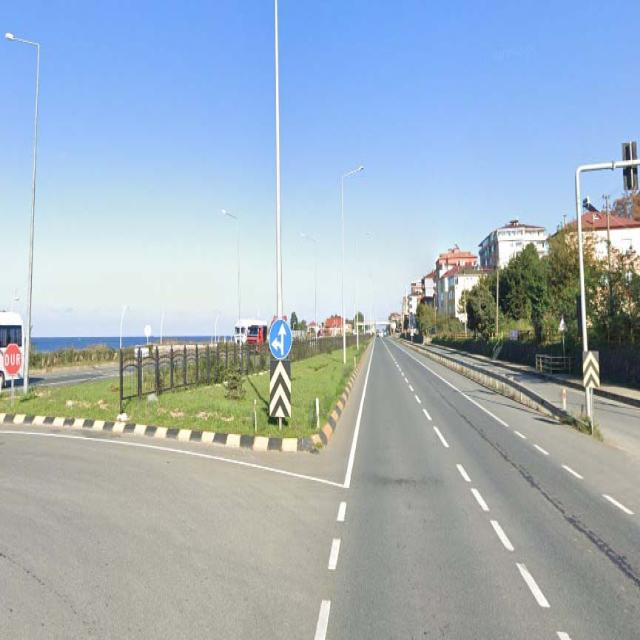dur: (2, 344, 22, 376)
ilerisol: (269, 317, 293, 362)
